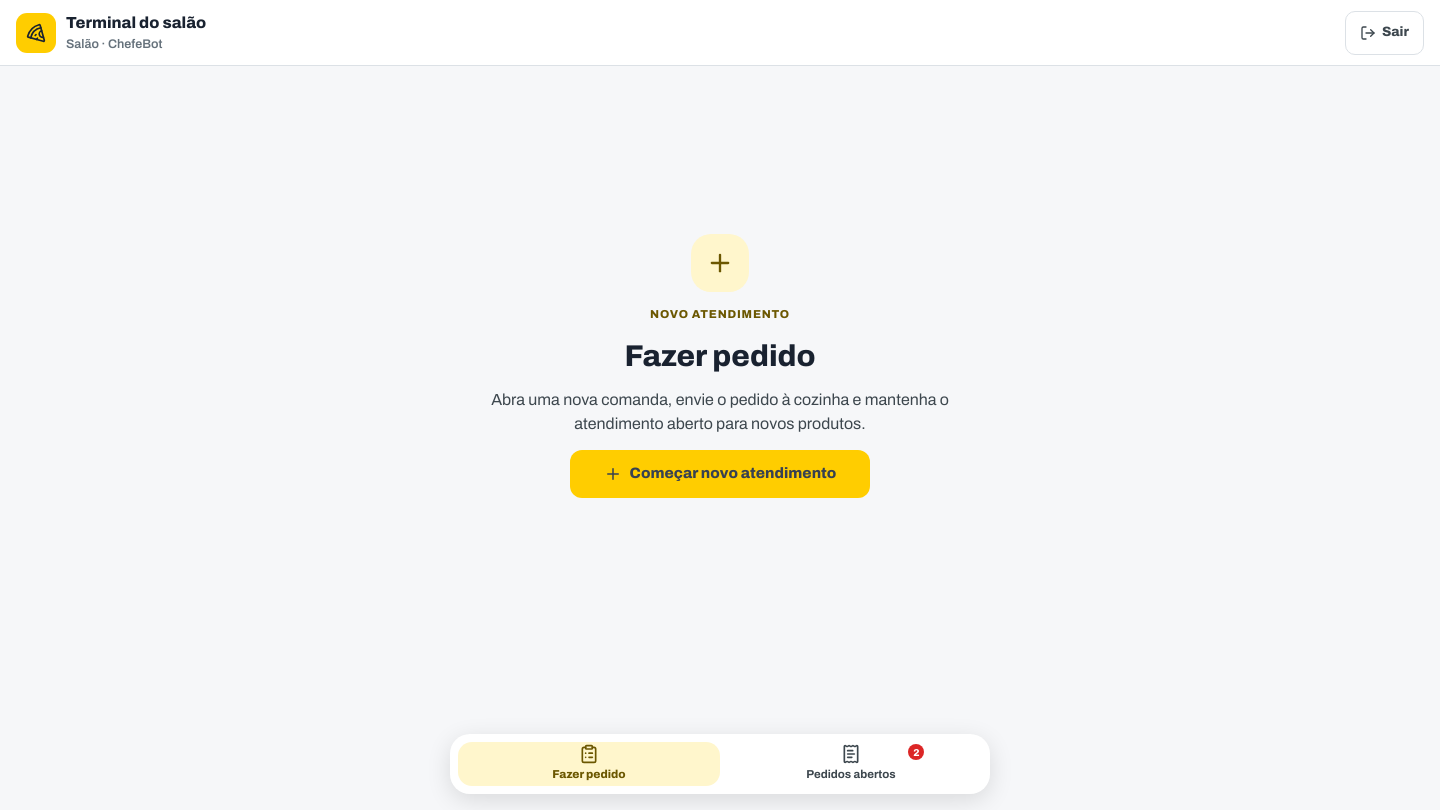
/salao — pedidos abertos e continuidade › não junta comandas de clientes iguais
The width and height of the screenshot is (1440, 810).
Click the button "Pedidos abertos 2" at x=851, y=764, box [720,742,982,786]
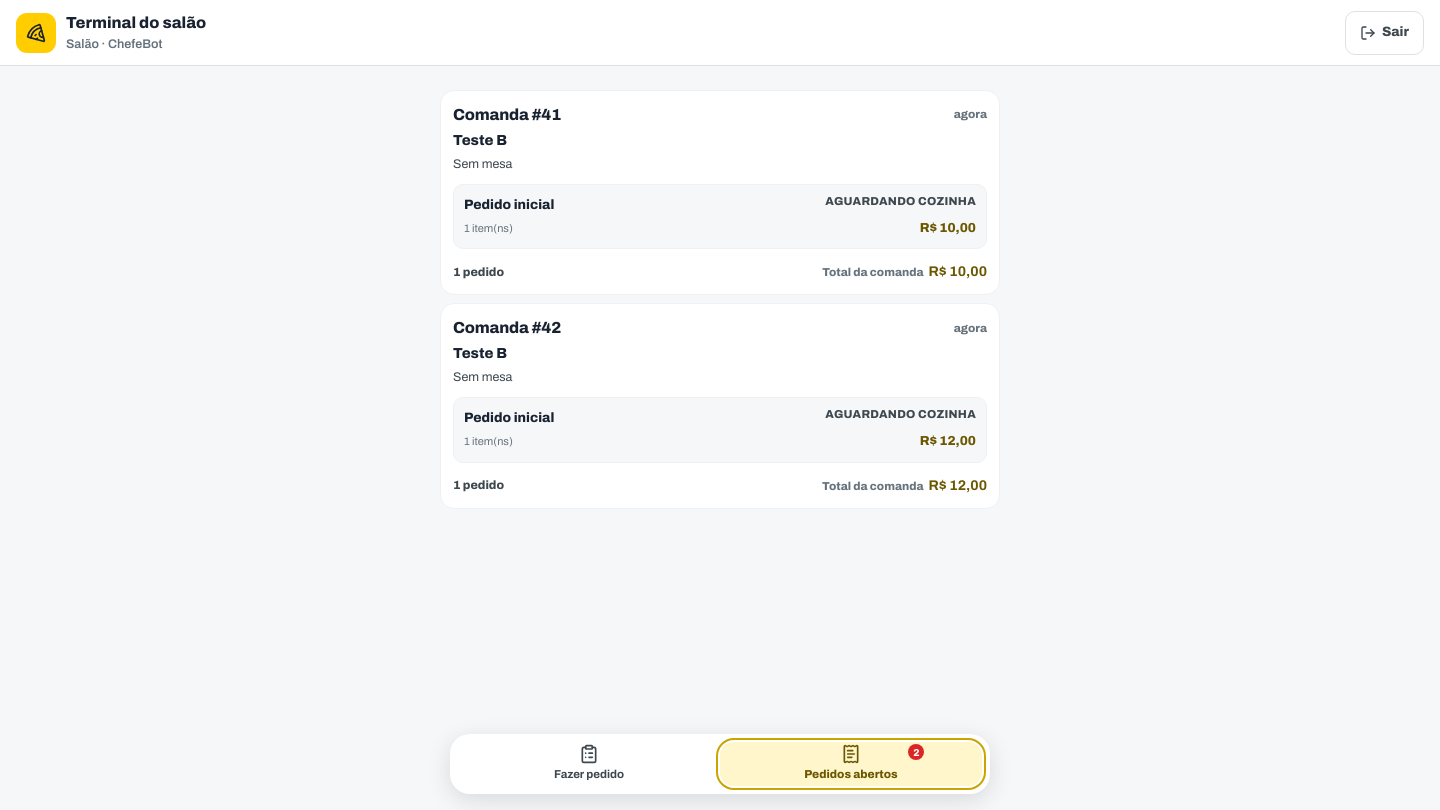
Check: the text "Comanda #41" is shown, box [453,103,561,127]
Check: the text "Comanda #42" is shown, box [453,316,561,340]
Check: the text "Teste B" is shown 2 times, box [453,132,507,148]; [453,345,507,361]
